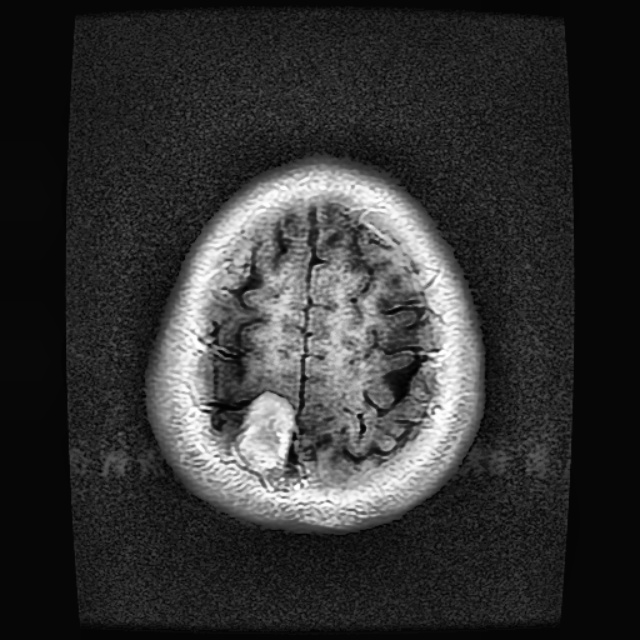Pituitary: (235, 390, 295, 473)
